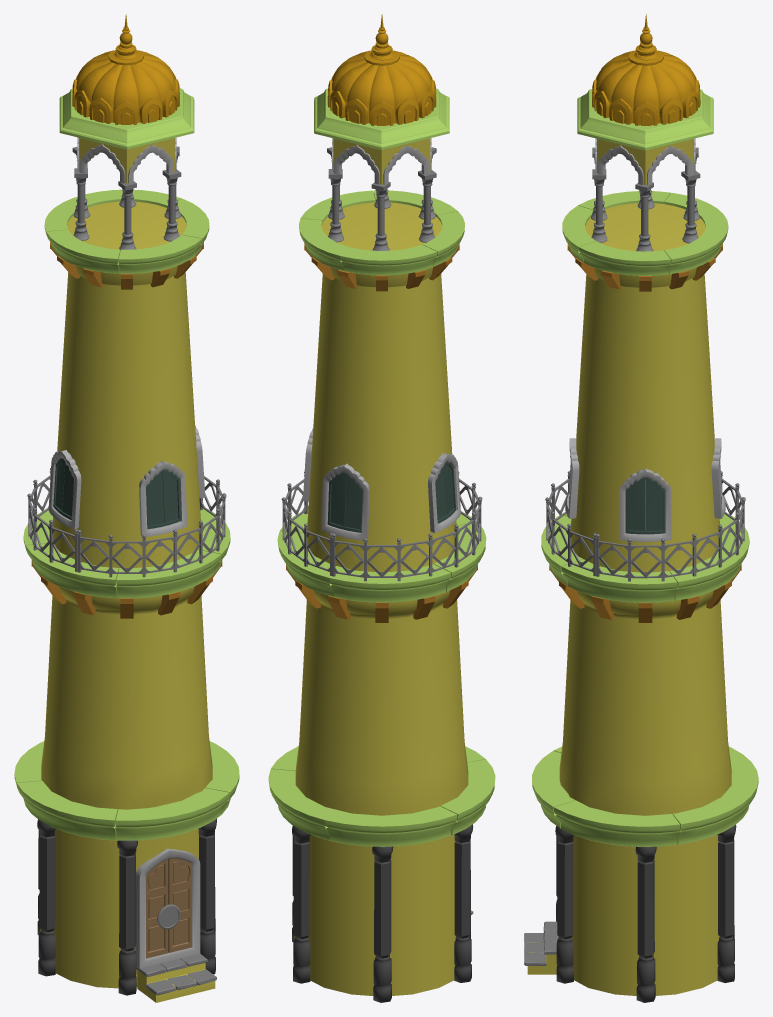
The model's file is SM_Minaret_india_02.fbx.
3 renders of one model, left to right at view 1: azimuth 30°, elevation 25°; view 2: azimuth 150°, elevation 25°; view 3: azimuth 270°, elevation 25°, orthographic.
Visible parts, largest first — view 1: Minaret002; view 2: Minaret002; view 3: Minaret002.
Boxes of the visible parts, x1,y1,x2,y2 form: Minaret002: (14, 14, 239, 1002); Minaret002: (268, 14, 495, 1002); Minaret002: (524, 14, 758, 1002).
Size of the model in its own units: 231 by 1064 by 239.
